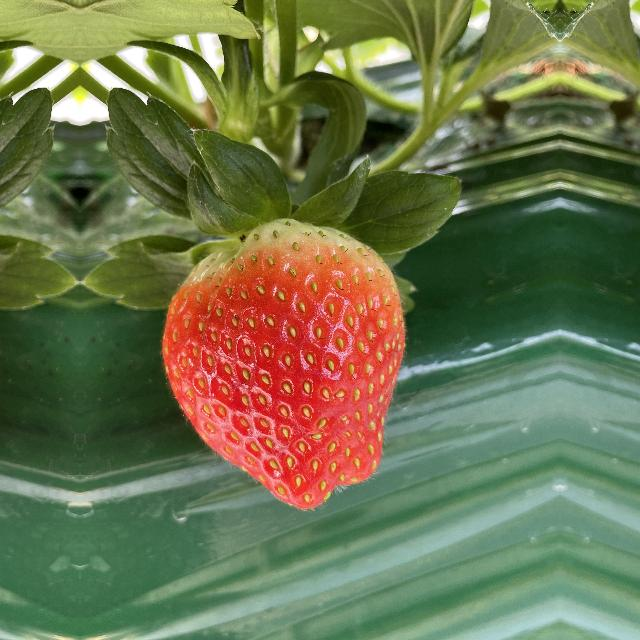Health_100: (153, 225, 410, 510)
